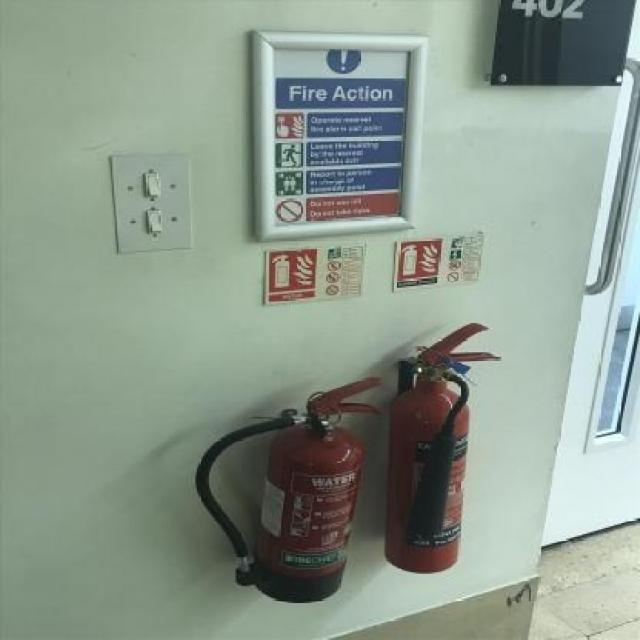fire extinguisher: (194, 378, 383, 605), (382, 321, 498, 575)
